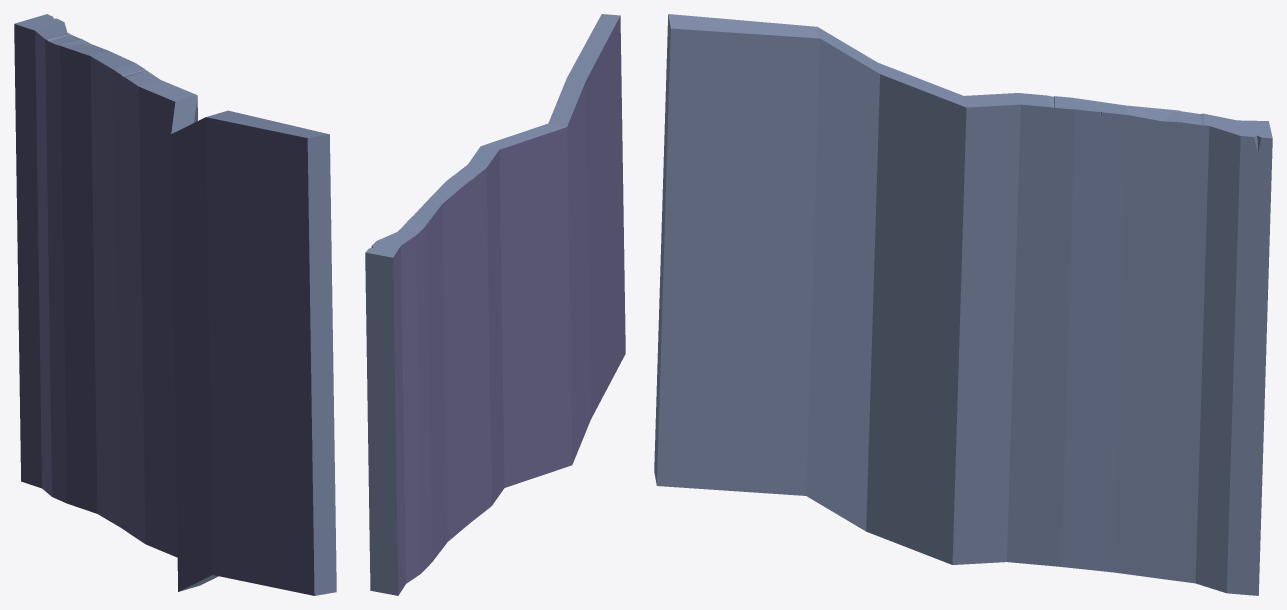
File: road.fbx
3 renders of one model, left to right at view 1: azimuth 30°, elevation 25°; view 2: azimuth 150°, elevation 25°; view 3: azimuth 270°, elevation 25°, orthographic. The views are drawn at different scales.
Visible parts, largest first — view 1: Road; view 2: Road; view 3: Road.
Part boxes in pixels (bbox=[...]): Road: bbox=[14, 14, 336, 595]; Road: bbox=[365, 14, 625, 595]; Road: bbox=[654, 14, 1272, 595].
Bounding box in the file's own units: 541 × 3955 × 3939.
